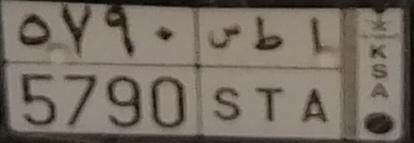0: (149, 25, 188, 129)
5: (17, 13, 57, 126)
7: (61, 3, 98, 127)
9: (103, 4, 144, 127)
A: (301, 16, 331, 123)
S: (208, 21, 245, 121)
T: (252, 15, 285, 122)
